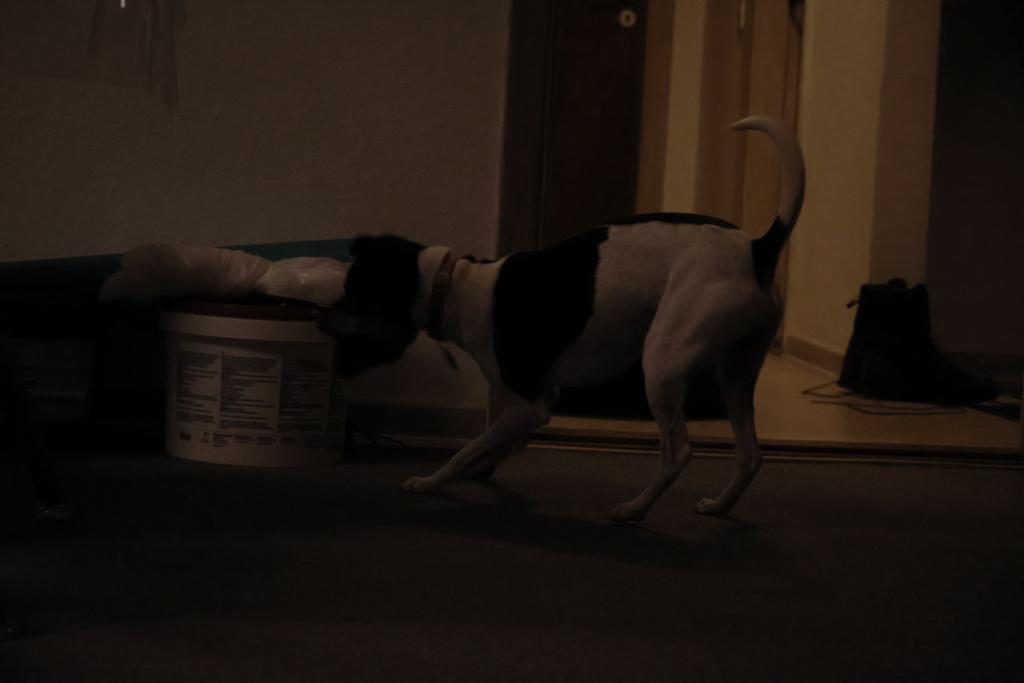Dog: (303, 101, 816, 531)
